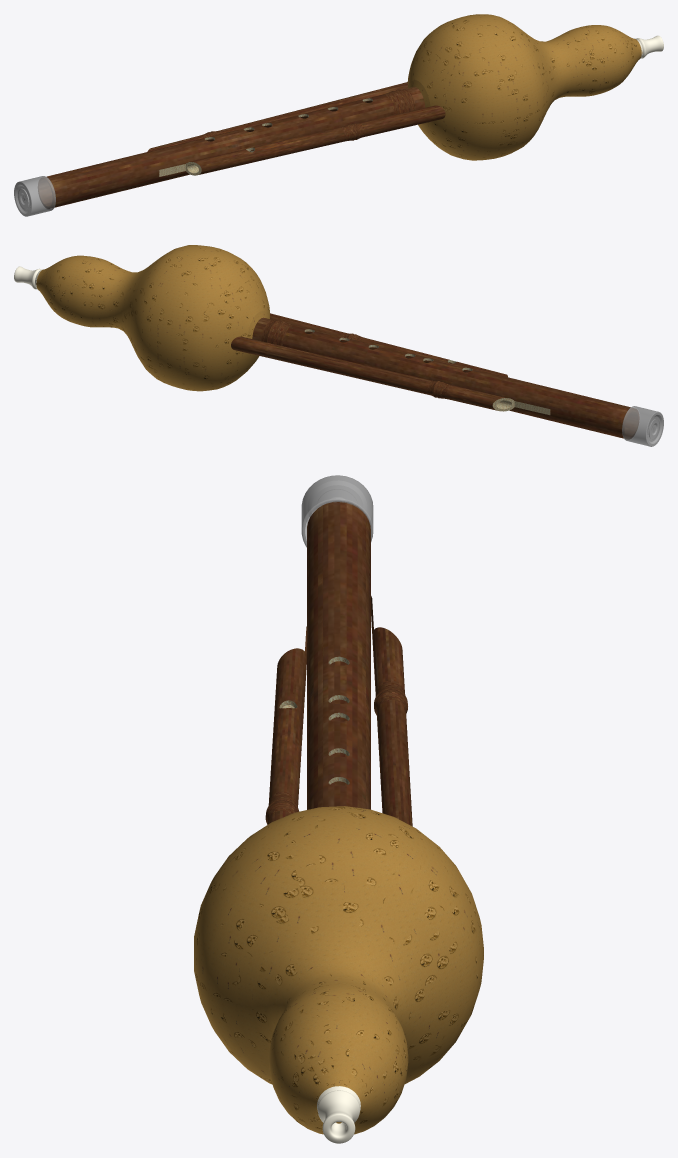
Rendered from 葫芦丝.fbx.
The picture shows the model from 3 angles, top to bottom: view 1: azimuth 30°, elevation 25°; view 2: azimuth 150°, elevation 25°; view 3: azimuth 270°, elevation 25°; orthographic projection. The views are drawn at different scales.
Parts seen in each view (by area): view 1: Mesh25; view 2: Mesh25; view 3: Mesh25.
Boxes of the visible parts, <box> form: Mesh25: <box>14,14,663,216</box>; Mesh25: <box>14,245,663,446</box>; Mesh25: <box>194,475,483,1143</box>.
Size of the model in its own units: 828 by 163 by 163.
